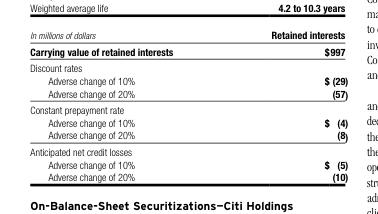table: (29, 28, 347, 182)
table column: (29, 28, 221, 182), (221, 28, 347, 182)
table column header: (29, 28, 347, 42)
table projected row header: (29, 59, 347, 73), (29, 101, 347, 115), (29, 143, 347, 157)
table row: (29, 42, 347, 59), (29, 86, 347, 101), (29, 128, 347, 143), (29, 28, 347, 42), (29, 59, 347, 73), (29, 101, 347, 115), (29, 143, 347, 157), (29, 73, 347, 86), (29, 115, 347, 128), (29, 157, 347, 170), (29, 170, 347, 182)
